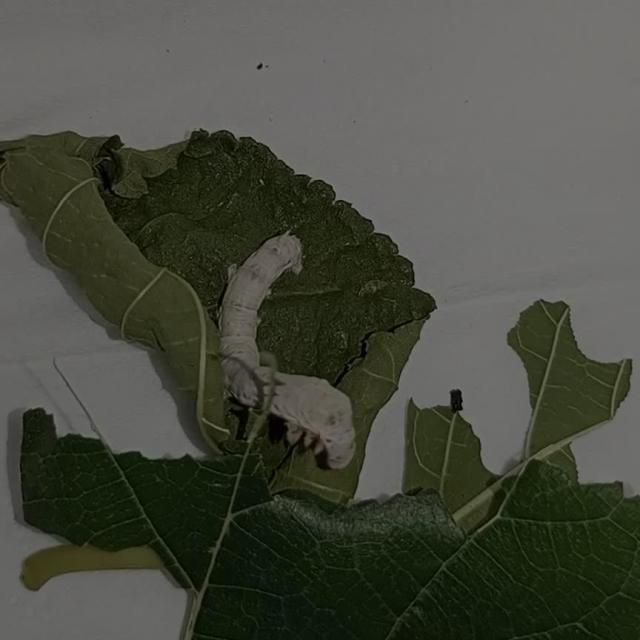Healthy: (198, 188, 390, 510)
